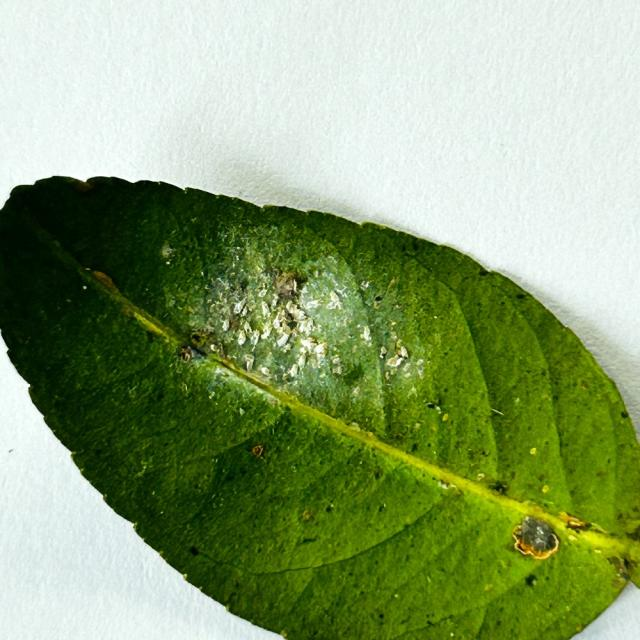Bacterial_Blight: (181, 269, 264, 365), (270, 266, 314, 311), (271, 266, 310, 306), (178, 328, 214, 362), (223, 293, 250, 334), (607, 554, 631, 584), (357, 282, 378, 310), (342, 361, 367, 384), (227, 313, 242, 332), (489, 481, 508, 495), (294, 270, 310, 286), (239, 276, 250, 291), (426, 401, 441, 411), (145, 331, 156, 343)
Lemon: (0, 176, 639, 639)
